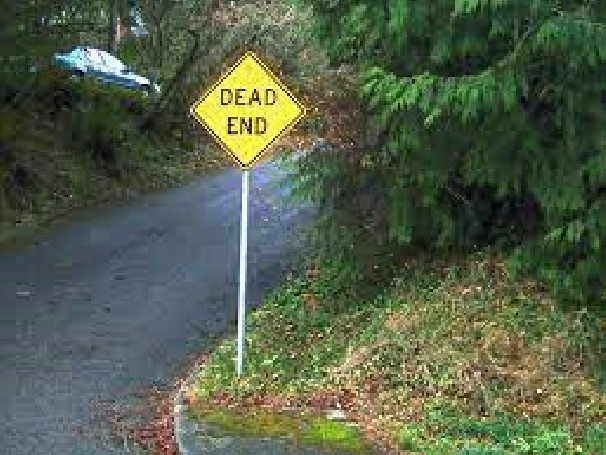Deadend: (187, 50, 307, 166)
